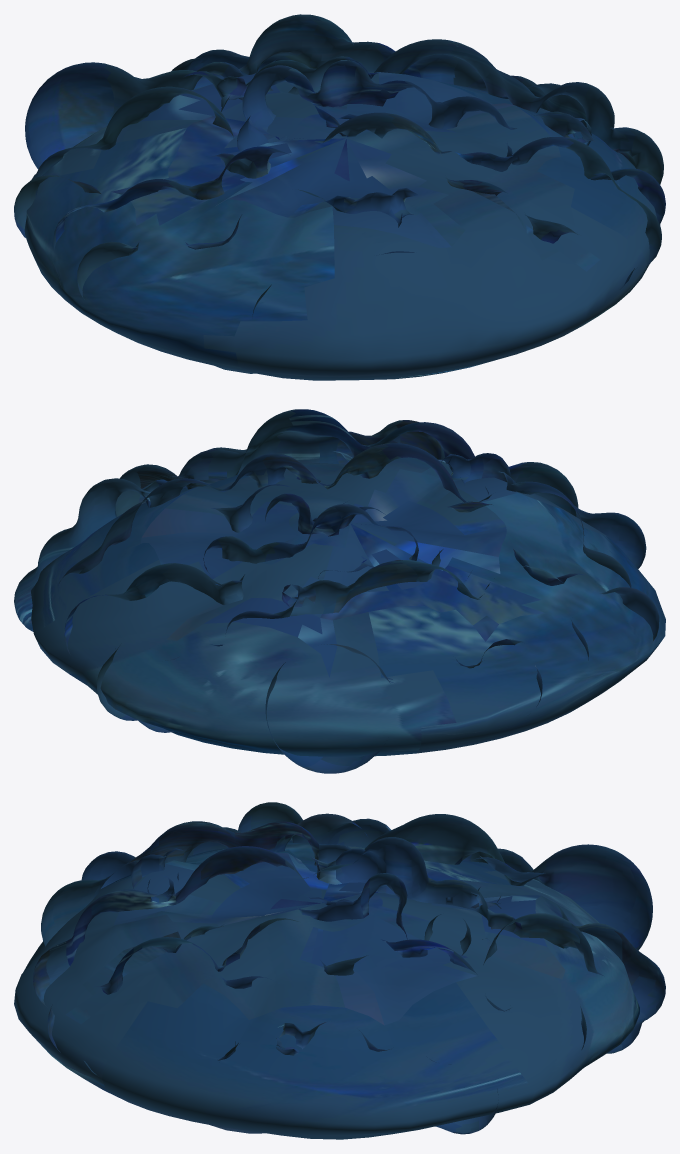
File: maganesebrighten.gltf
The picture shows the model from 3 angles, top to bottom: view 1: azimuth 30°, elevation 25°; view 2: azimuth 150°, elevation 25°; view 3: azimuth 270°, elevation 25°; orthographic projection. The views are drawn at different scales.
Visible parts, largest first — view 1: Sphere; view 2: Sphere; view 3: Sphere.
Boxes of the visible parts, x1,y1,x2,y2 form: Sphere: (14,14,665,380); Sphere: (14,409,665,773); Sphere: (14,802,665,1139).
Size of the model in its own units: 2.1 by 0.786 by 2.12.
Materials: 1 (1 with a texture image).
